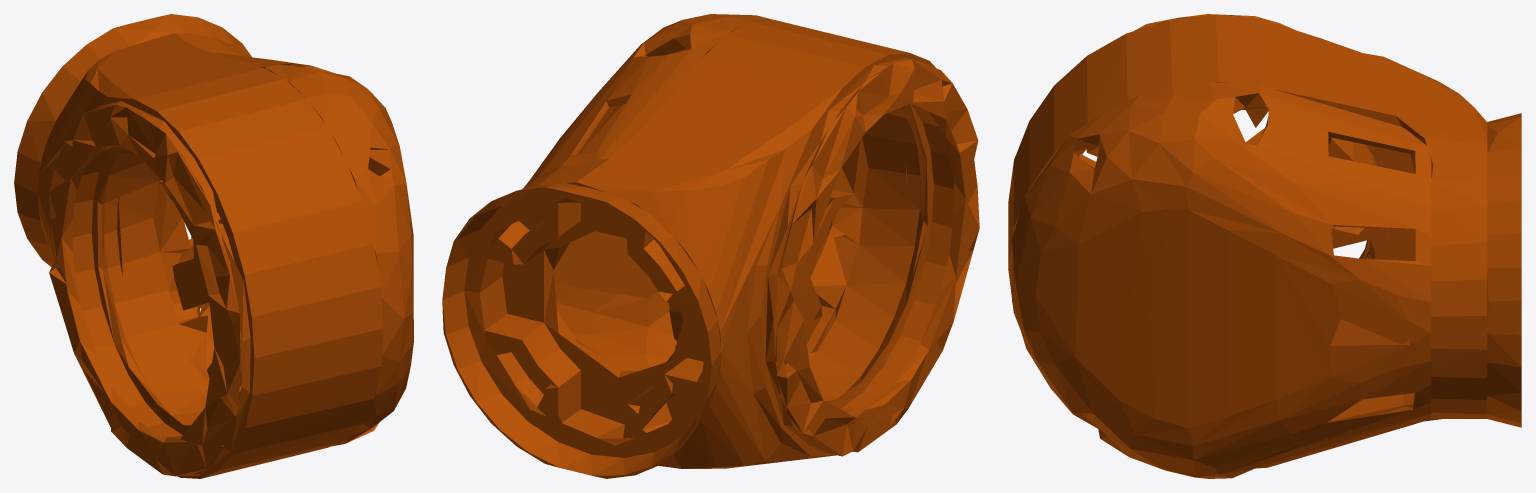
The model's file is va_right_shoulder_front.stl.obj.
3 views of the same model, side by side, from view 1: azimuth 30°, elevation 25°; view 2: azimuth 150°, elevation 25°; view 3: azimuth 270°, elevation 25° (orthographic). The views are drawn at different scales.
Parts seen in each view (by area): view 1: <STL_BINARY>; view 2: <STL_BINARY>; view 3: <STL_BINARY>.
Part boxes in pixels (x1,y1,x2,y2): <STL_BINARY>: (14, 14, 413, 478); <STL_BINARY>: (442, 14, 979, 478); <STL_BINARY>: (1008, 14, 1521, 478).
Bounding box in the file's own units: 0.0963 × 0.119 × 0.1468.
